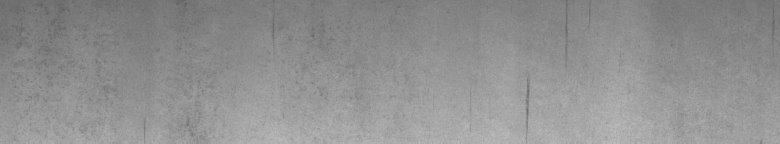ka: (524, 25, 568, 128)
